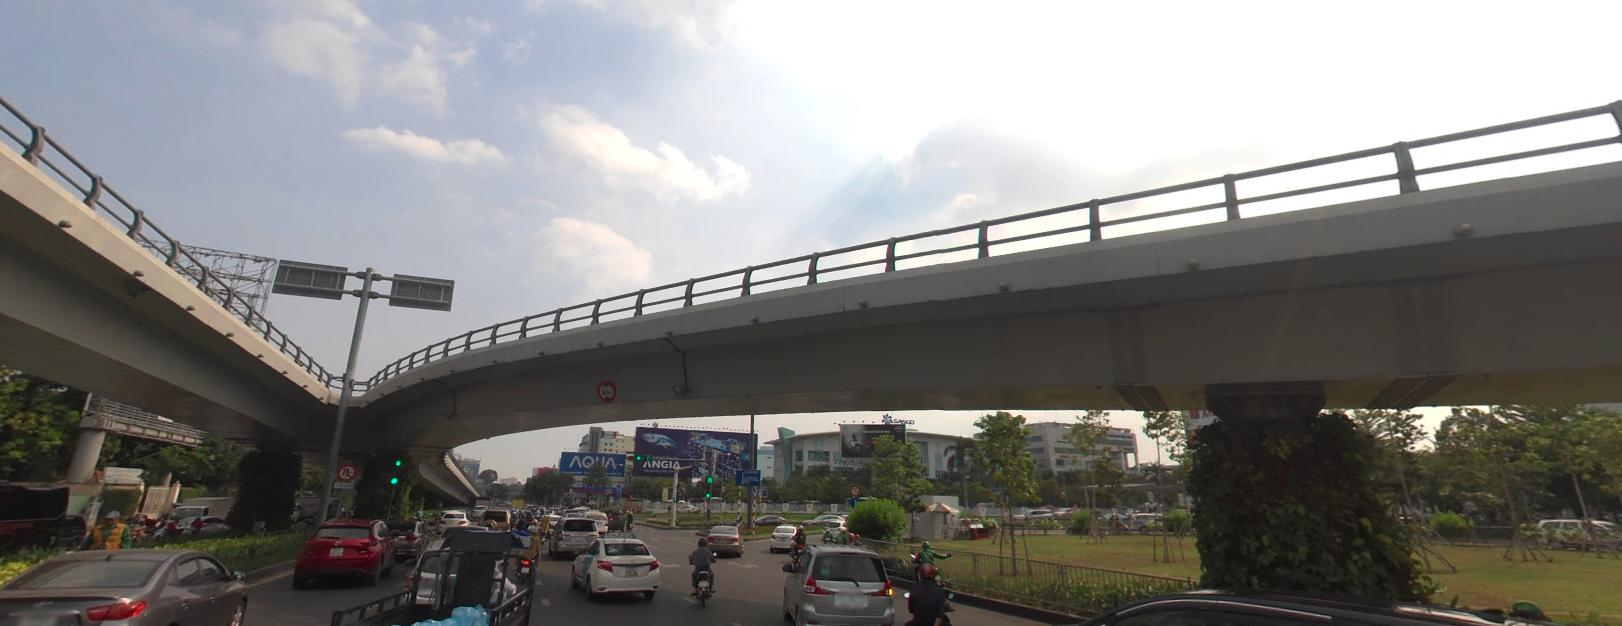Cam con lai: (596, 379, 617, 400), (850, 483, 860, 495)
Cam re: (338, 461, 356, 478)
